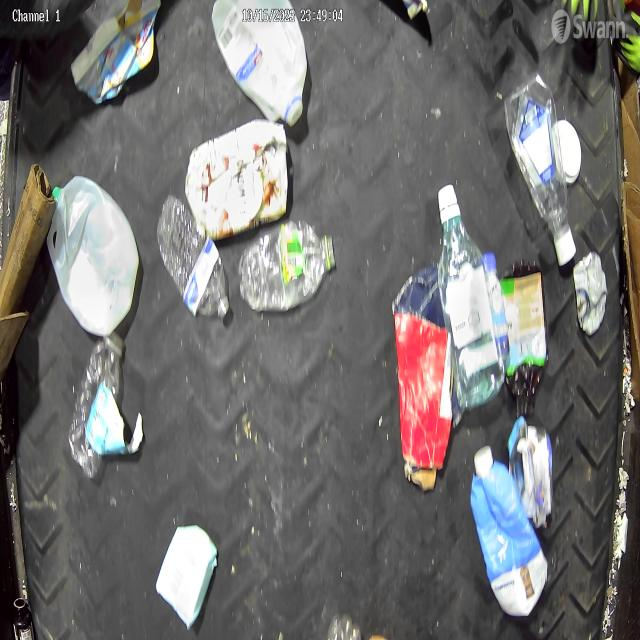can: (573, 249, 608, 337)
milk_jug: (47, 171, 139, 337), (211, 1, 309, 130)
non_white_jug: (469, 449, 548, 618), (185, 119, 288, 241)
plastic_bottle: (438, 184, 506, 409), (504, 69, 576, 267), (156, 196, 232, 321), (237, 220, 334, 314), (68, 330, 123, 480), (482, 252, 509, 357)
